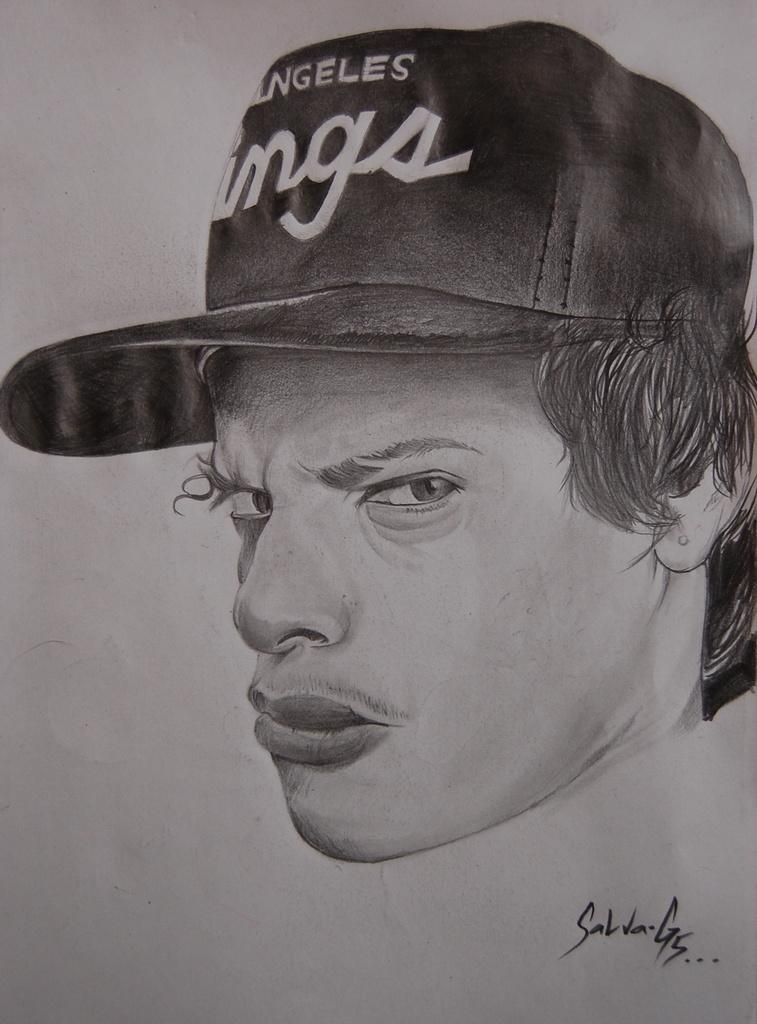Hat: (0, 14, 754, 461)
